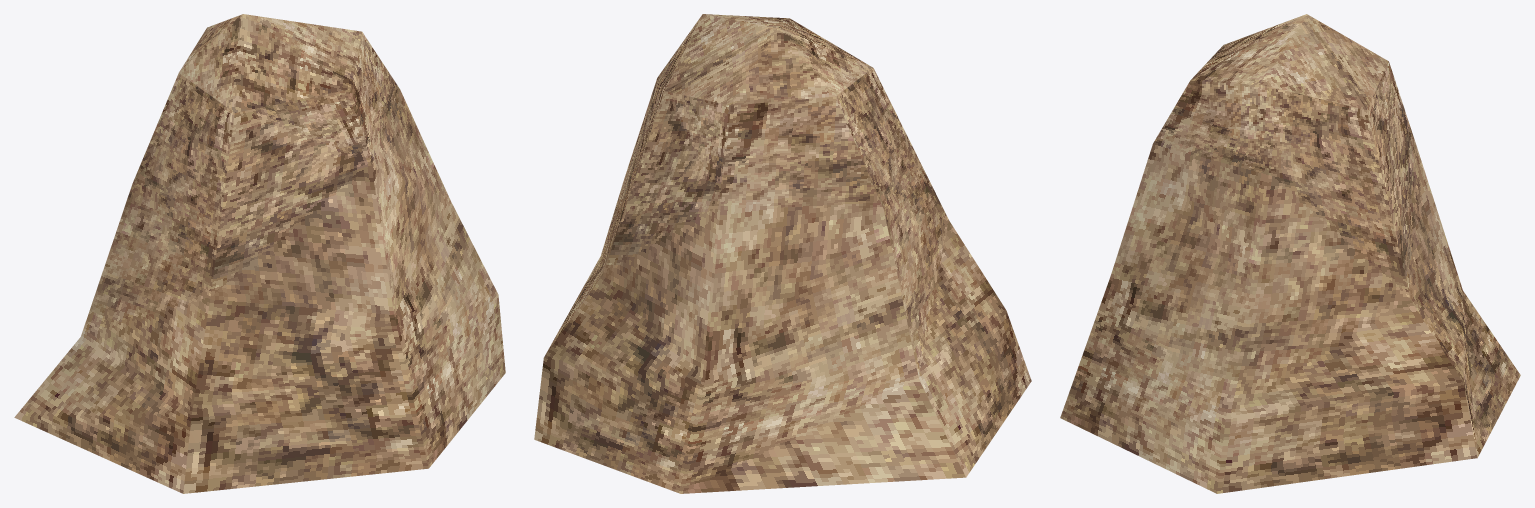
File: stage-ruin-p2-477.glb
3 renders of one model, left to right at view 1: azimuth 30°, elevation 25°; view 2: azimuth 150°, elevation 25°; view 3: azimuth 270°, elevation 25°, orthographic. The views are drawn at different scales.
Size of the model in its own units: 12.03 by 10.29 by 11.46.
1 material, 1 textured.
